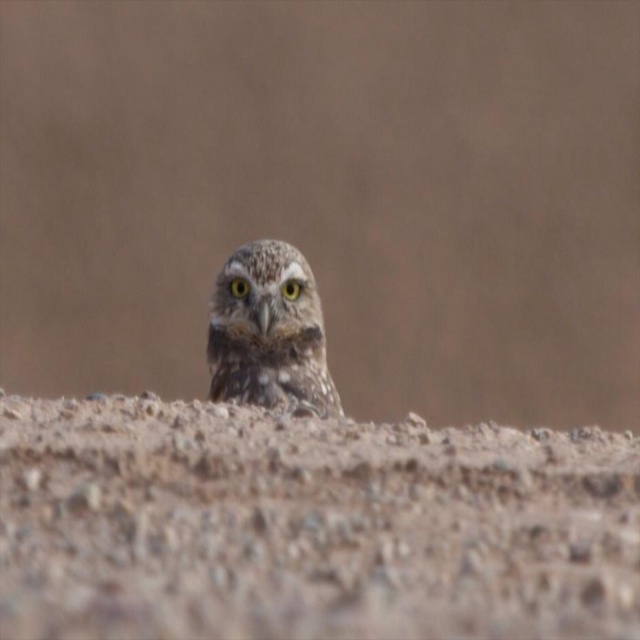Owl: (203, 236, 346, 415)
